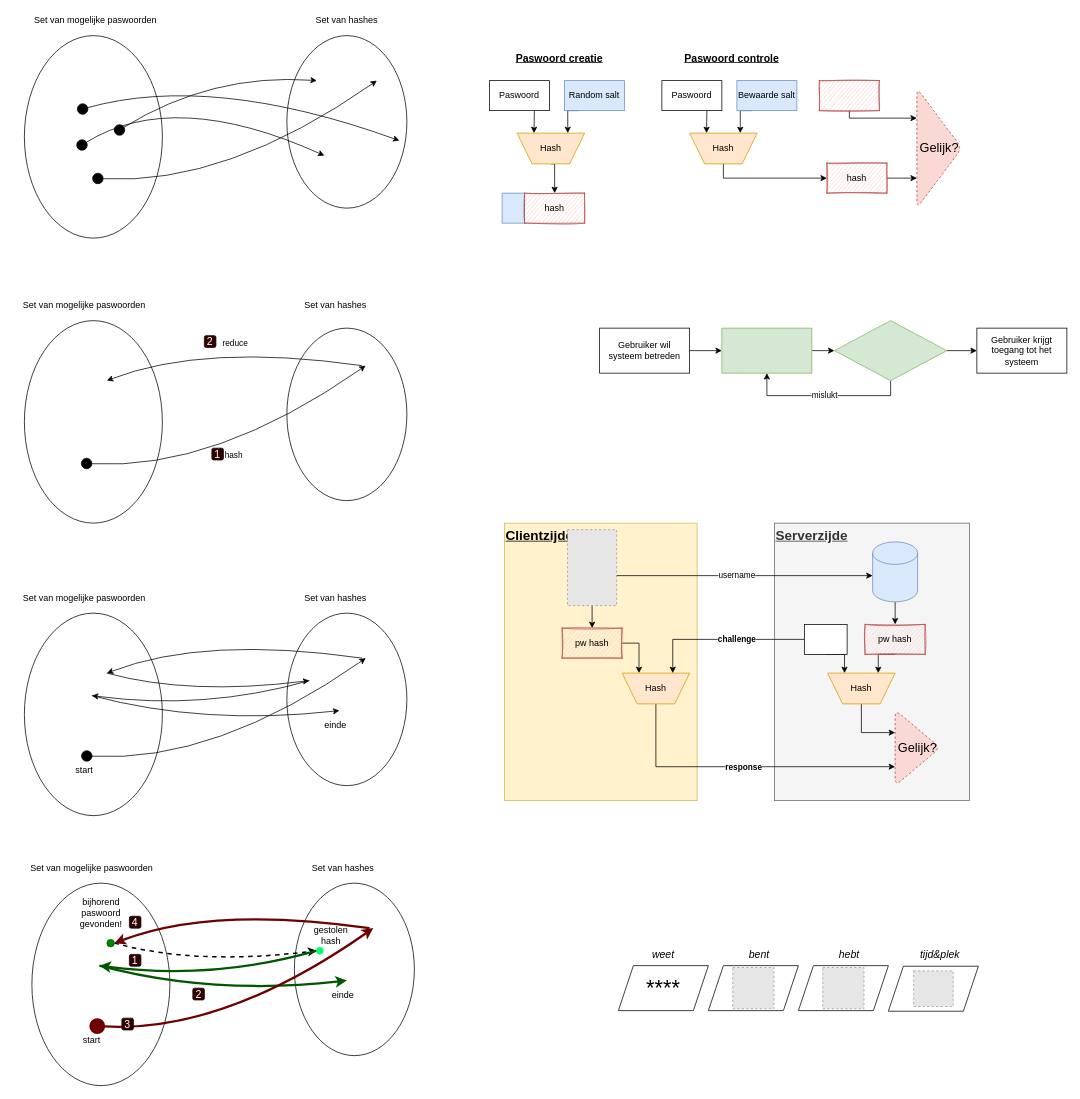
The diagram is 1080 pixels wide and 1099 high, and some of its shapes have lost their labels. Grey dashed boxes stand in for pictures. The centre of each missing label's shape, as x and y in pixels:
Bewaarde hash: [849,95]
Gebruiker krijgt challenge voorgeschoteld: [766,350]
Gebruiker probeert challenge: [890,350]
password db: [895,571]
random challenge: [825,639]
Salt: [513,207]
